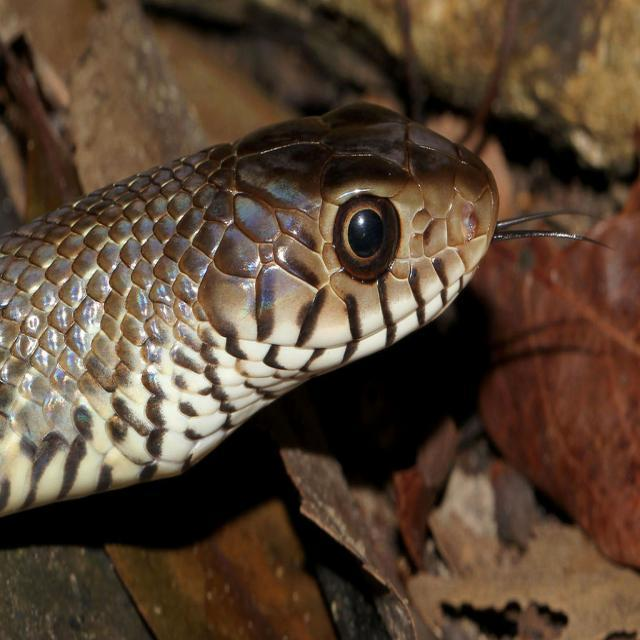Snake: (0, 98, 605, 514)
